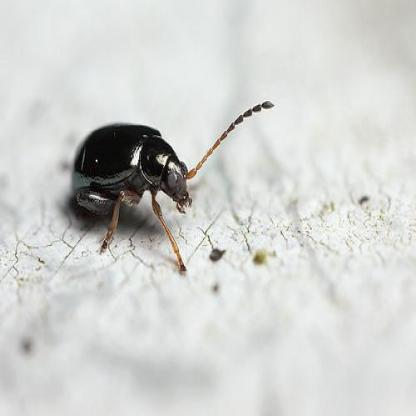beetle: (65, 100, 284, 273)
